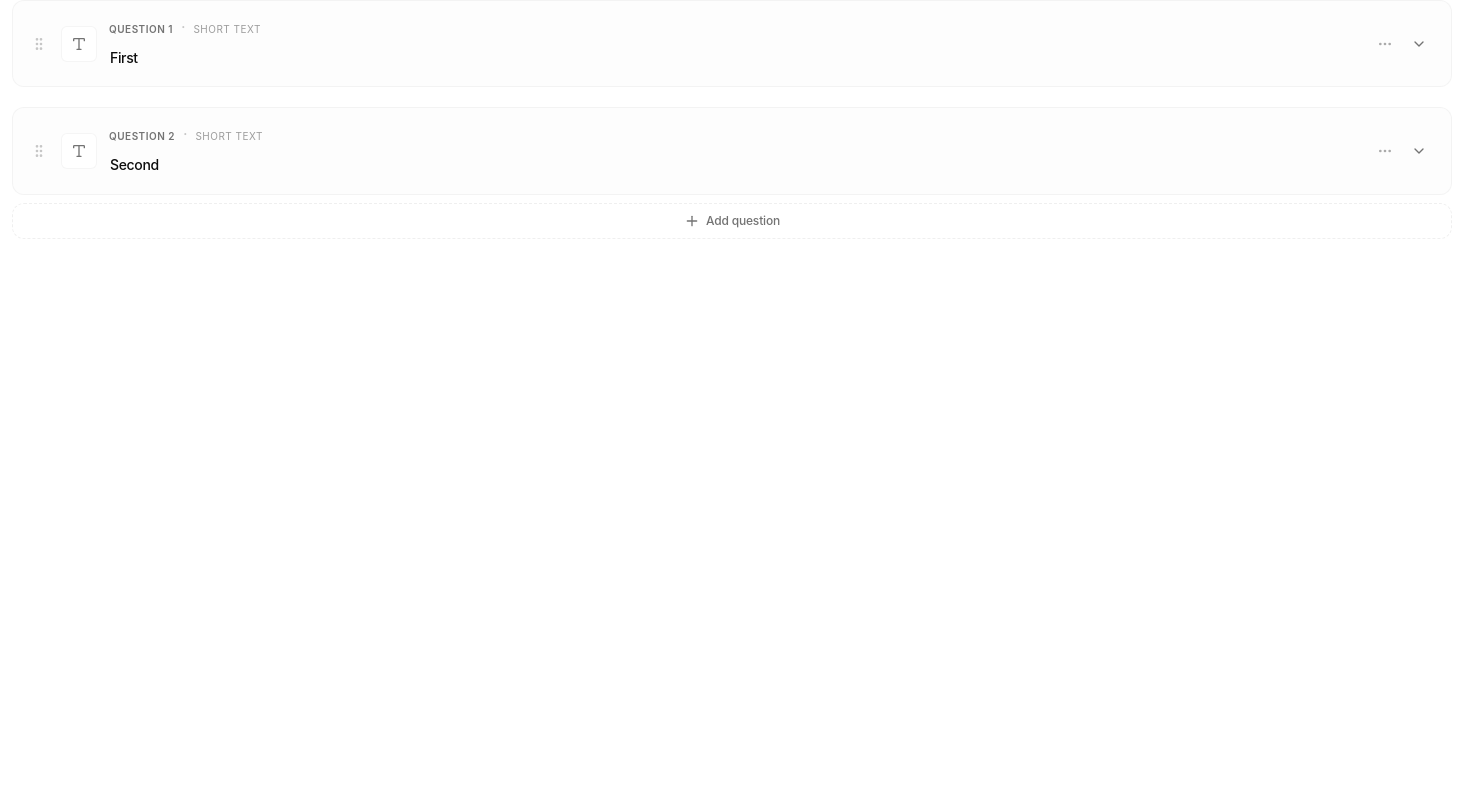
FormBlocksEditor › keeps a question expanded when it is moved
Click the button named "Expand First" at (1419,44), box [1403, 28, 1435, 60]
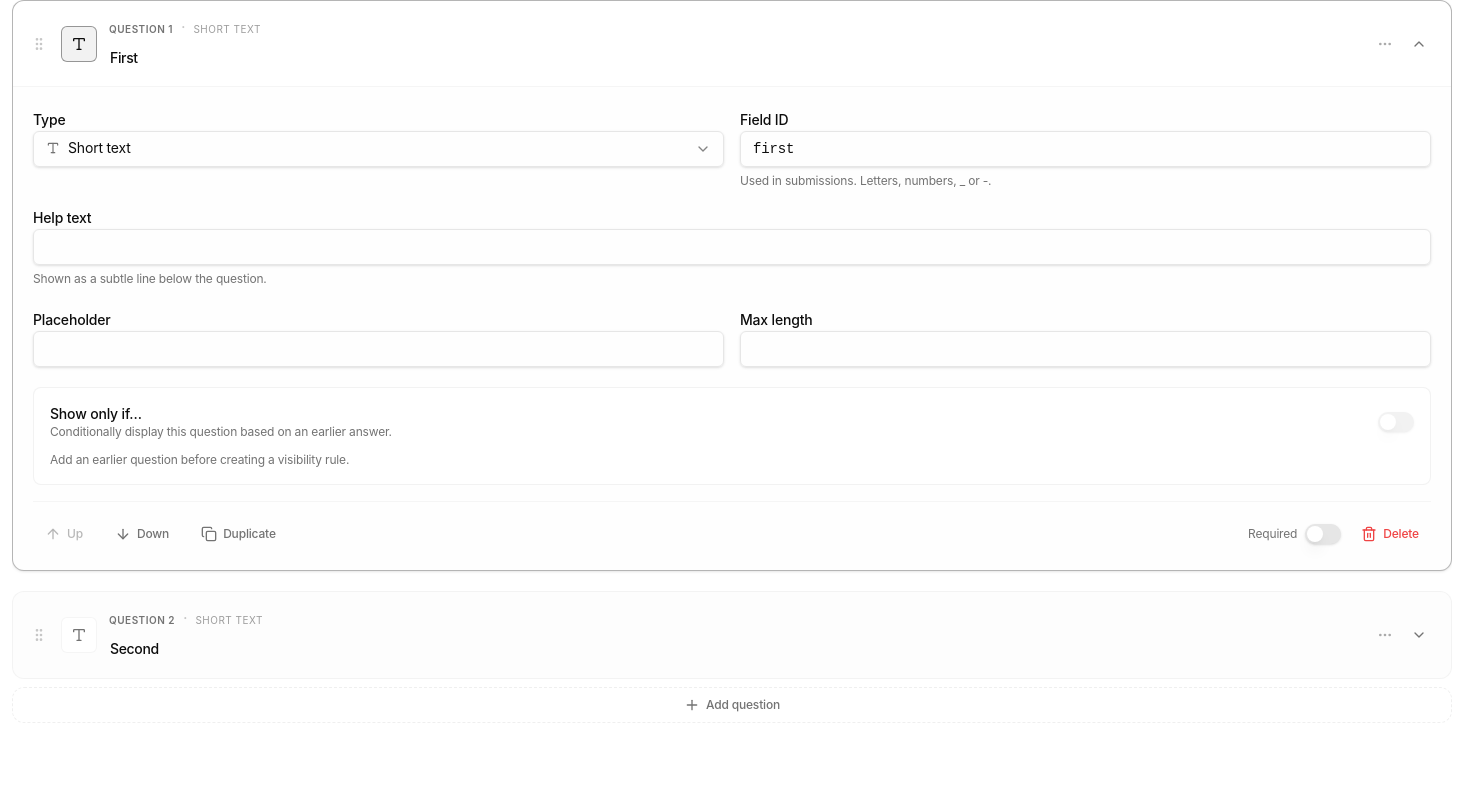
Click the button with aria-label "Move First down" at (142,534), box [103, 518, 181, 550]
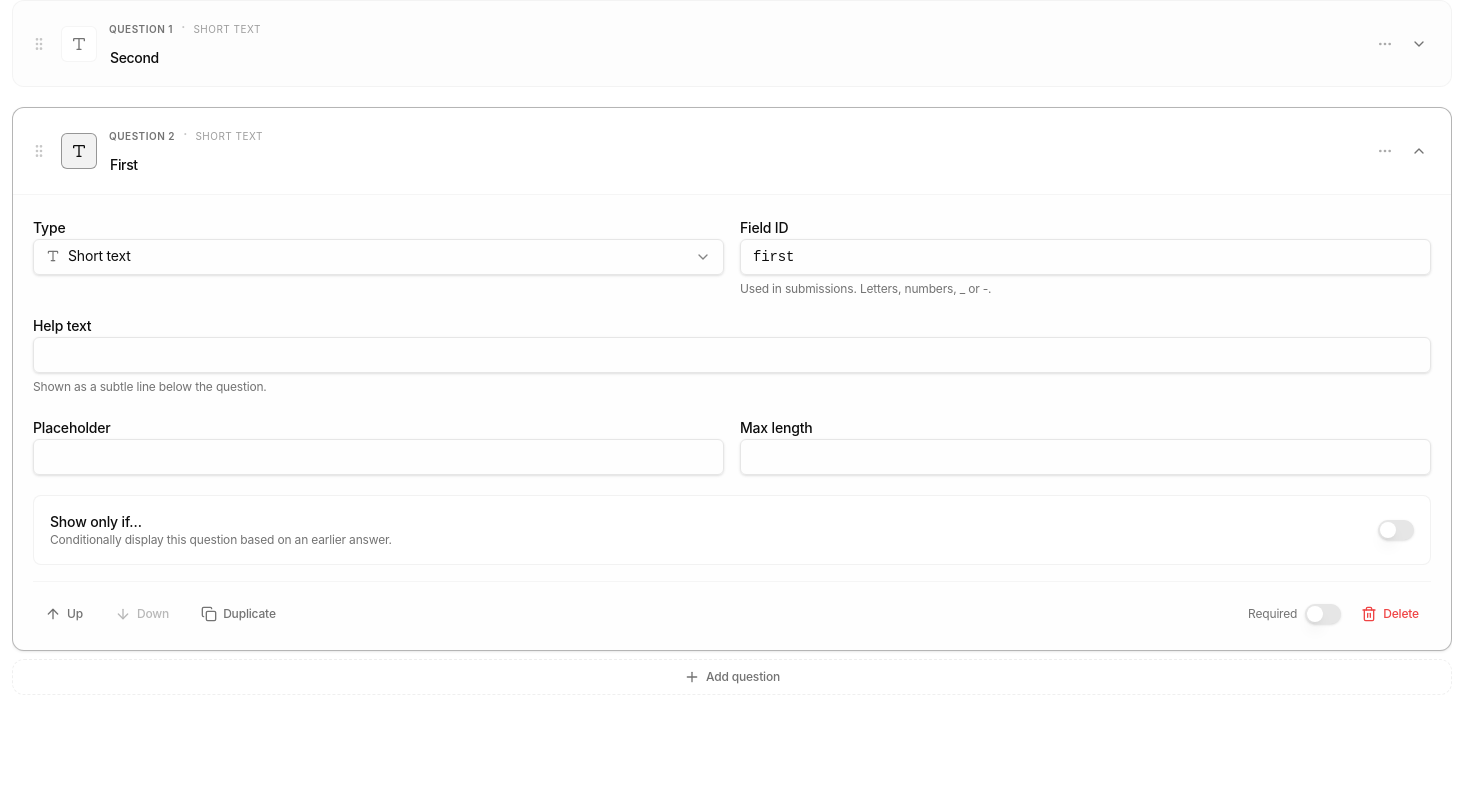
Expected: the button named "Collapse First" is shown, [1403, 135, 1435, 167]
Expected: the button named "Expand Second" is shown, [1403, 28, 1435, 60]
